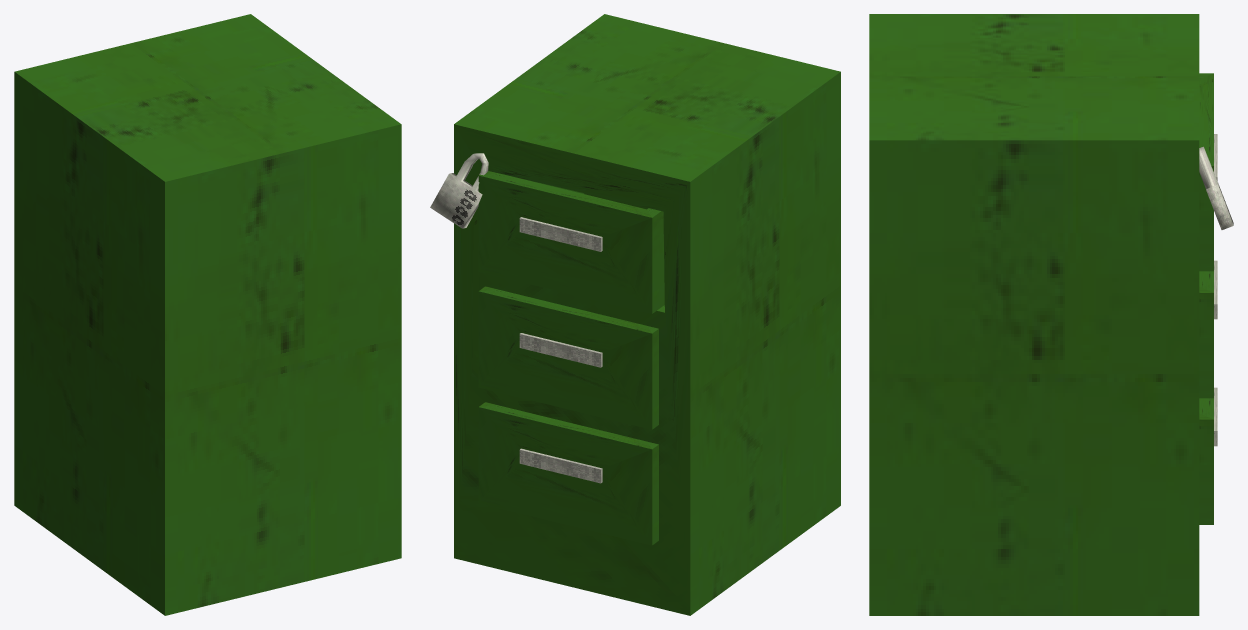
The model's file is archivero.gltf.
3 renders of one model, left to right at view 1: azimuth 30°, elevation 25°; view 2: azimuth 150°, elevation 25°; view 3: azimuth 270°, elevation 25°, orthographic. The views are drawn at different scales.
Visible parts, largest first — view 1: Archivero; view 2: Archivero, Cajon, Cajon.001, Cajon.002, Lock; view 3: Archivero, Cajon, Cajon.001, Cajon.002, Lock.
Part boxes in pixels (x1,y1,x2,y2): Archivero: (14, 14, 401, 615); Archivero: (454, 14, 840, 615); Cajon: (478, 171, 664, 313); Cajon.001: (478, 286, 658, 429); Cajon.002: (478, 402, 658, 545); Lock: (430, 153, 488, 228); Archivero: (869, 14, 1199, 615); Cajon: (1199, 73, 1217, 271); Cajon.001: (1199, 260, 1217, 398); Cajon.002: (1199, 387, 1217, 524); Lock: (1199, 146, 1233, 229).
Size of the model in its own units: 0.8896 by 1.5 by 1.04.
Materials: 3 (3 with a texture image).
